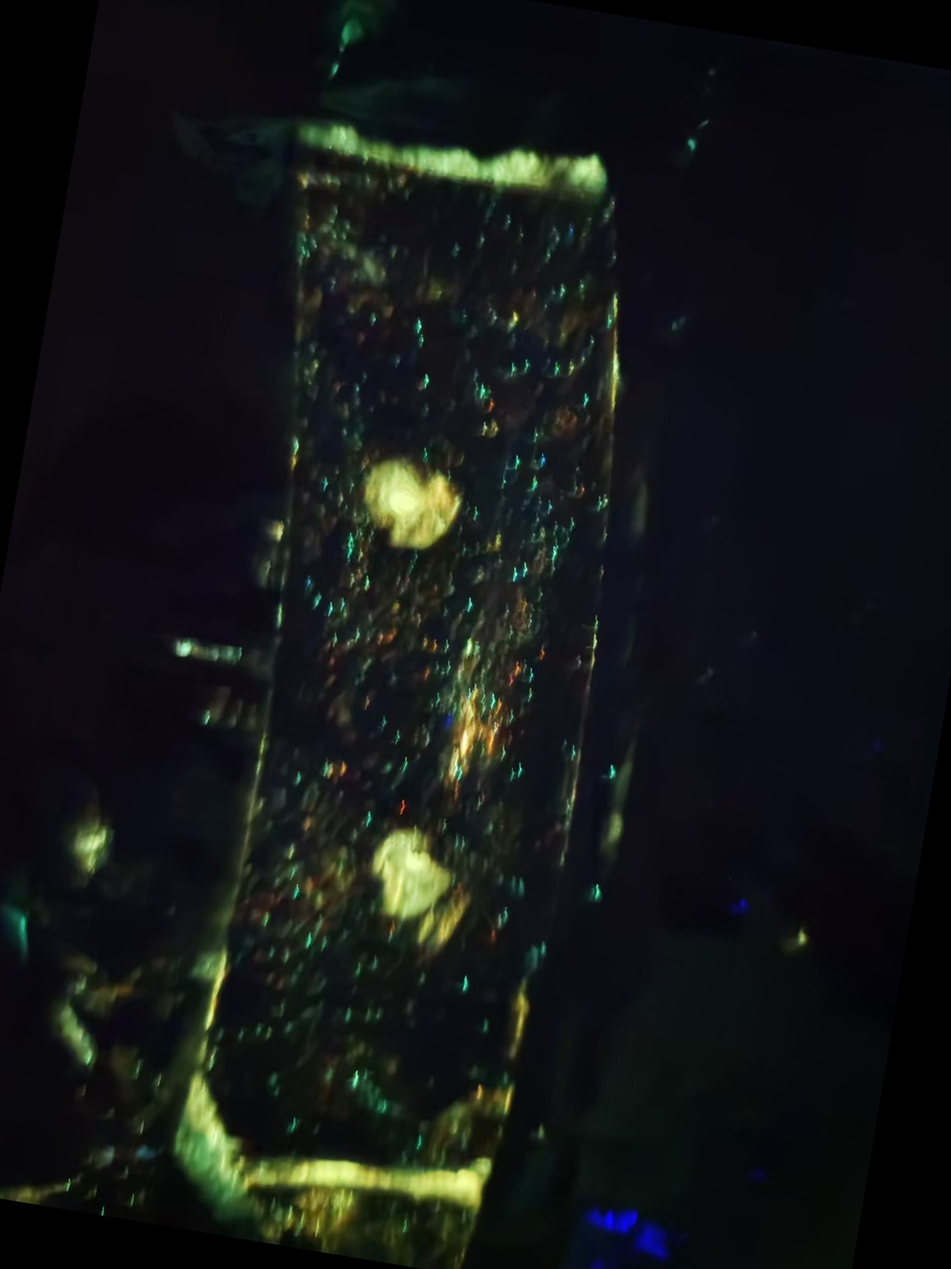Crater: (311, 783, 509, 981), (319, 433, 502, 591)
